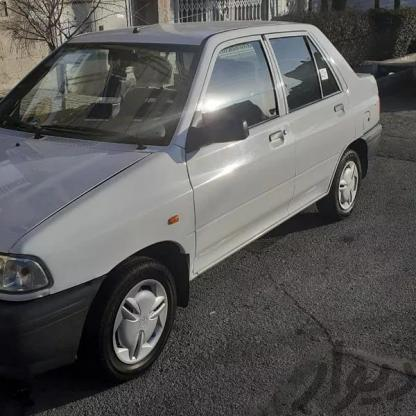Car: (0, 15, 378, 384)
